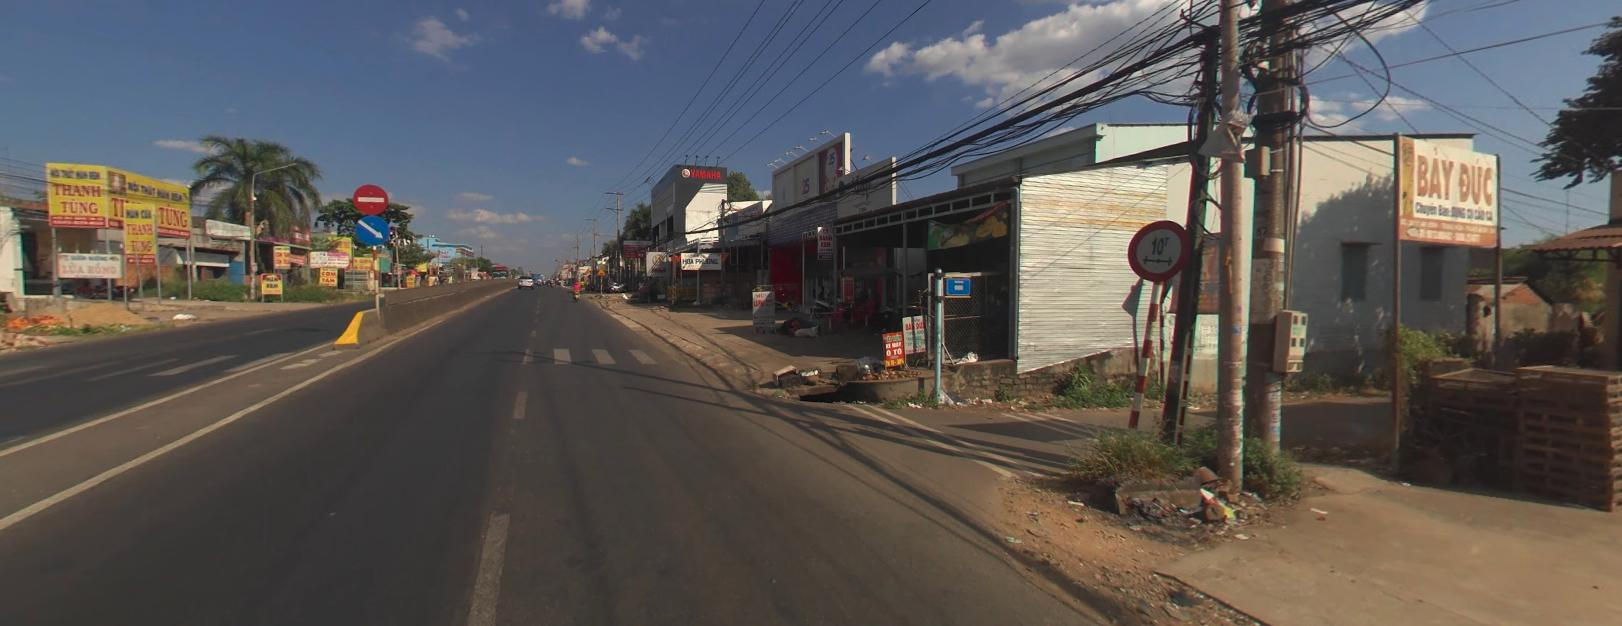Cam con lai: (1125, 217, 1191, 279)
Cam nguoc chieu: (353, 183, 389, 213)
Hieu lenh: (354, 213, 389, 243)
Nguy hiem: (596, 266, 605, 273)
